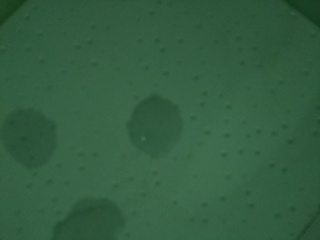Water_detected: (125, 100, 179, 154), (69, 199, 116, 240), (14, 115, 52, 162)
